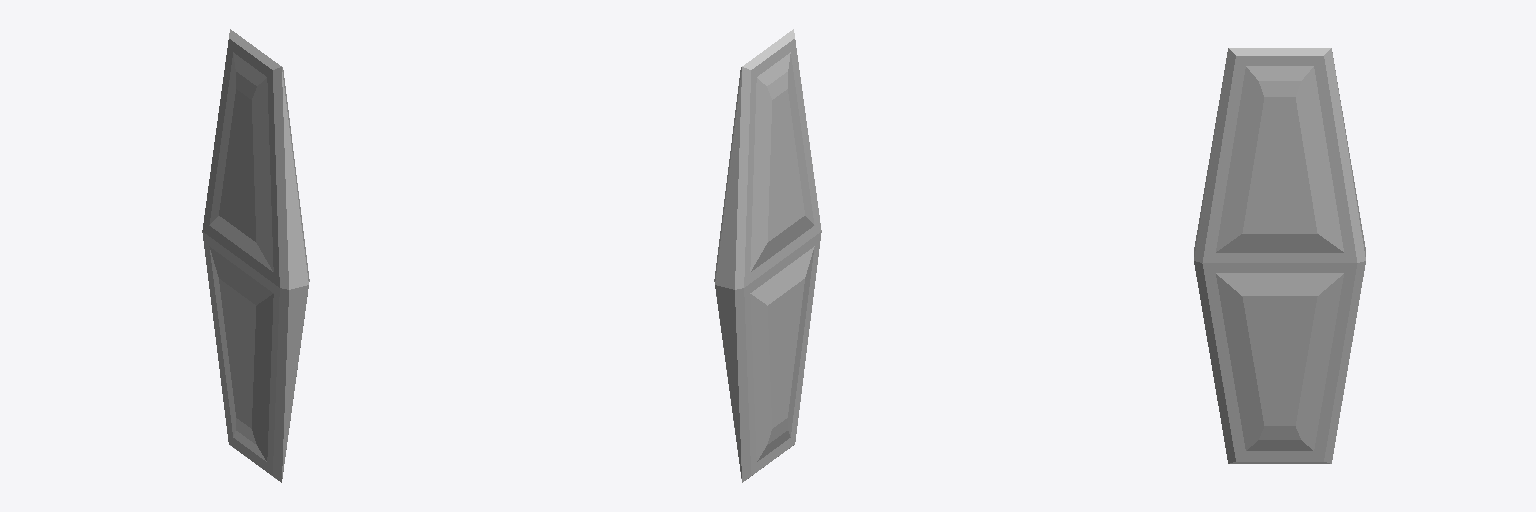
The model's file is Spacestation_Structure_Wing_Thin_Winglet_Standard.obj.
3 views of the same model, side by side, from view 1: azimuth 30°, elevation 25°; view 2: azimuth 150°, elevation 25°; view 3: azimuth 270°, elevation 25° (orthographic).
Parts seen in each view (by area): view 1: object2, object3, object1; view 2: object2, object3, object1; view 3: object2, object3, object1.
Part boxes in pixels (x1,y1,x2,y2): object2: (202,29,309,482); object3: (209,52,273,271); object1: (209,246,273,461); object2: (714,29,821,482); object3: (750,52,814,271); object1: (750,246,814,461); object2: (1194,48,1365,463); object3: (1216,66,1343,252); object1: (1216,273,1343,450).
Bounding box in the file's own units: 0.185 × 2 × 0.75.